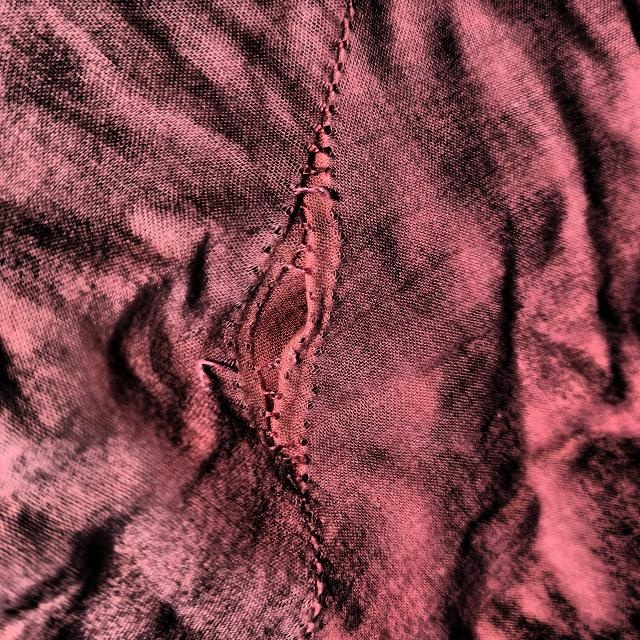seam: (123, 77, 459, 640)
